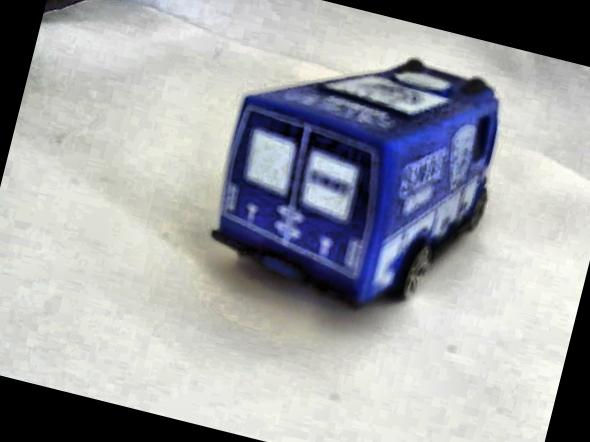police car: (188, 16, 517, 334)
